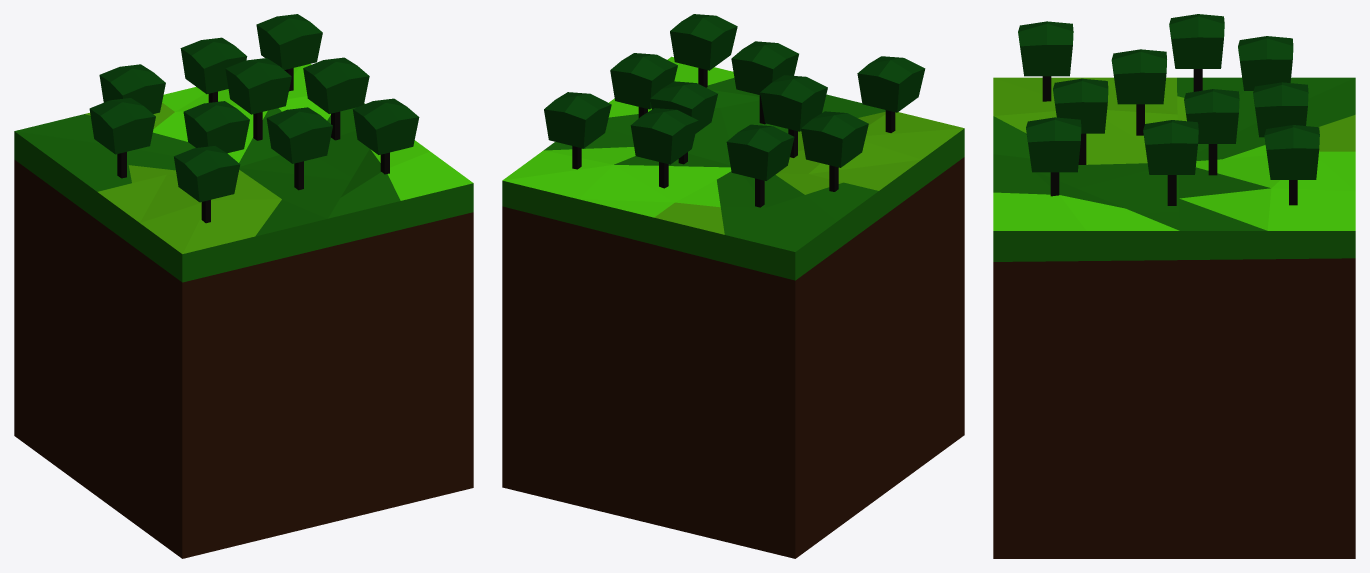
The model's file is tree_2.obj.
The picture shows the model from 3 angles, left to right: view 1: azimuth 30°, elevation 25°; view 2: azimuth 150°, elevation 25°; view 3: azimuth 270°, elevation 25°; orthographic projection. The views are drawn at different scales.
Visible parts, largest first — view 1: tree_2_Cube.018; view 2: tree_2_Cube.018; view 3: tree_2_Cube.018.
Part boxes in pixels (x1=…): tree_2_Cube.018: x1=14, y1=14, x2=473, y2=558; tree_2_Cube.018: x1=502, y1=14, x2=964, y2=558; tree_2_Cube.018: x1=993, y1=14, x2=1355, y2=558.
Size of the model in its own units: 2 by 2.49 by 2.
